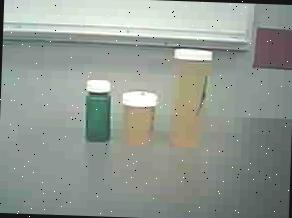Bottle A: (166, 44, 219, 154)
Bottle B: (118, 86, 161, 148)
Bottle C: (76, 74, 116, 148)
